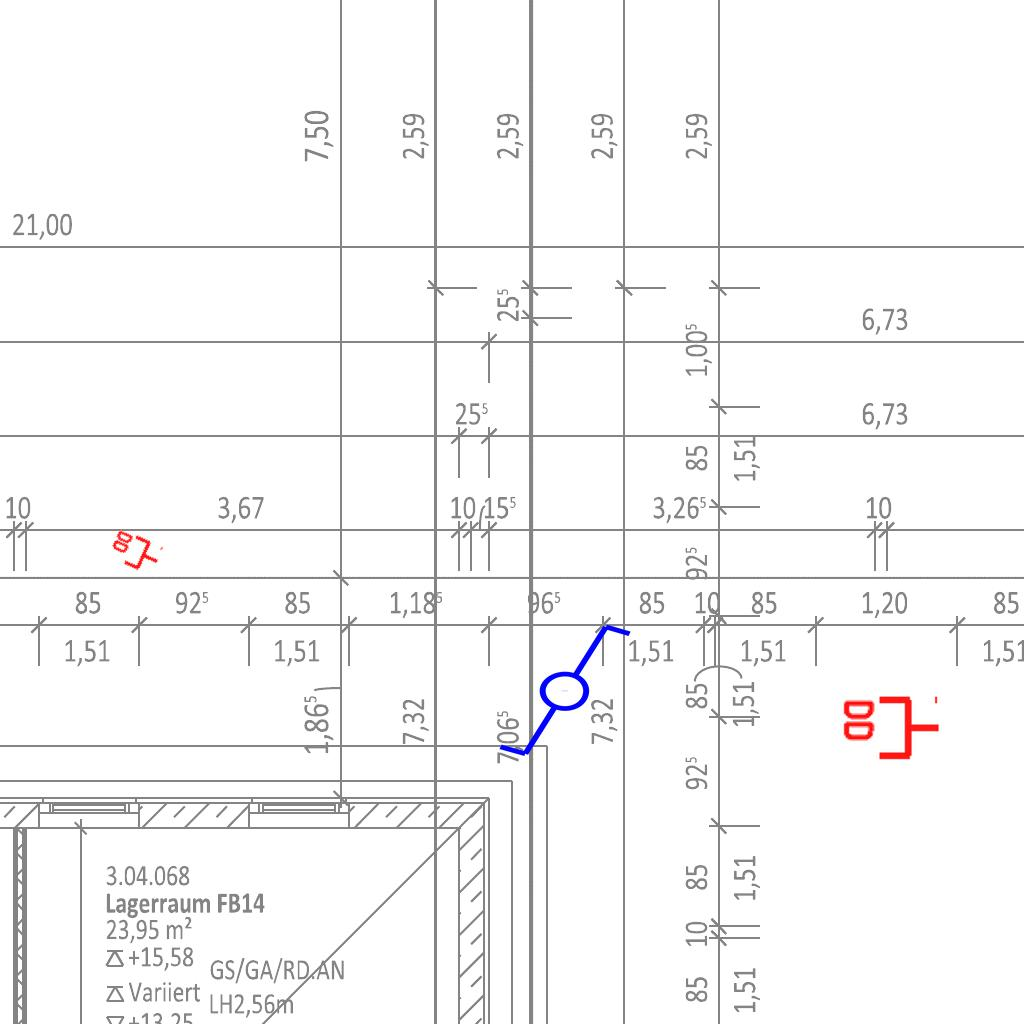Datenanschluss_zweifach: (839, 695, 942, 764), (104, 526, 166, 579)
Wechselschalter: (478, 617, 635, 761)
